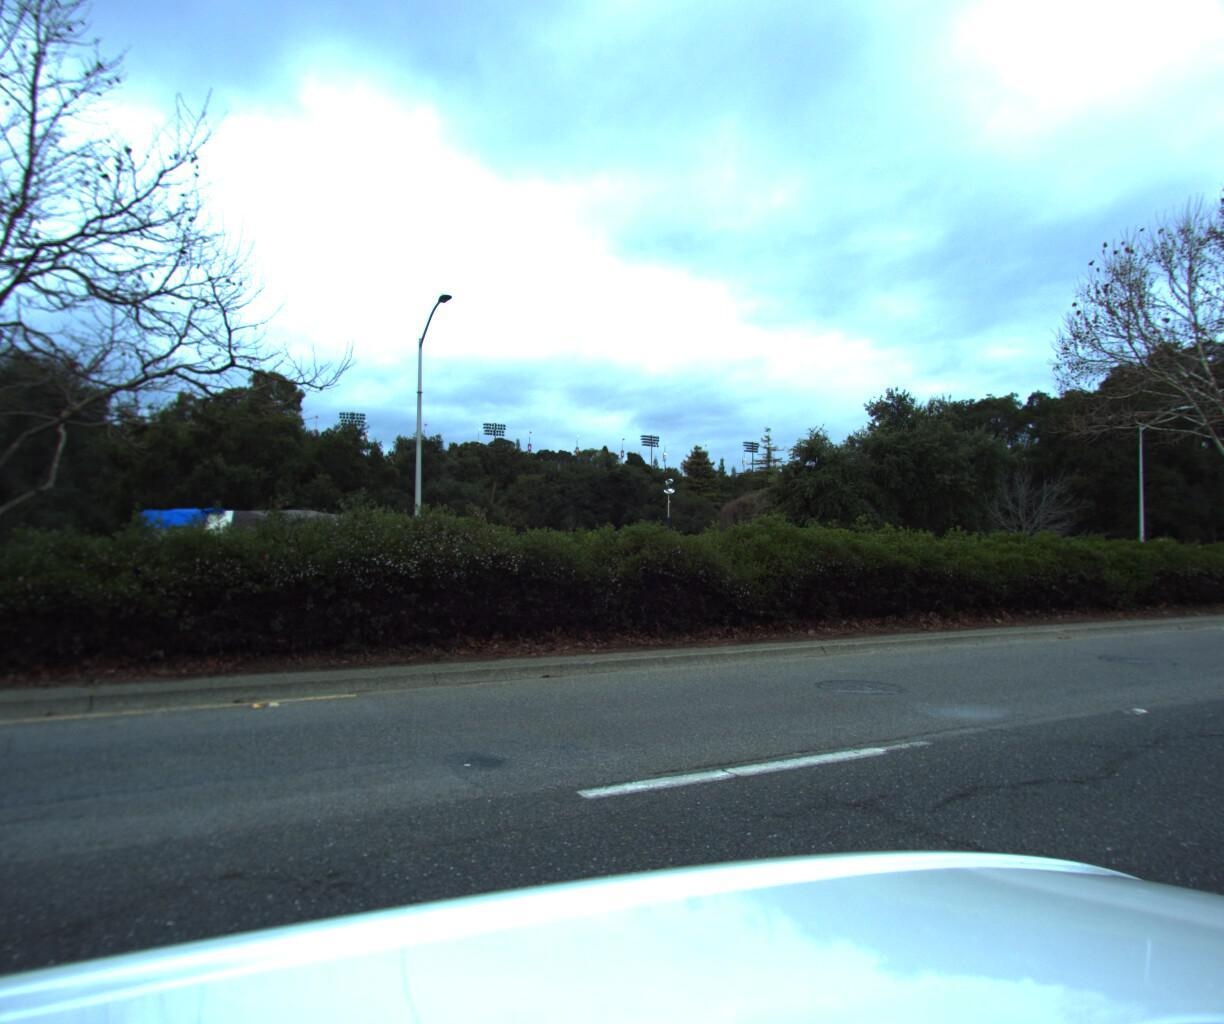other_vehicle: (118, 501, 384, 633)
